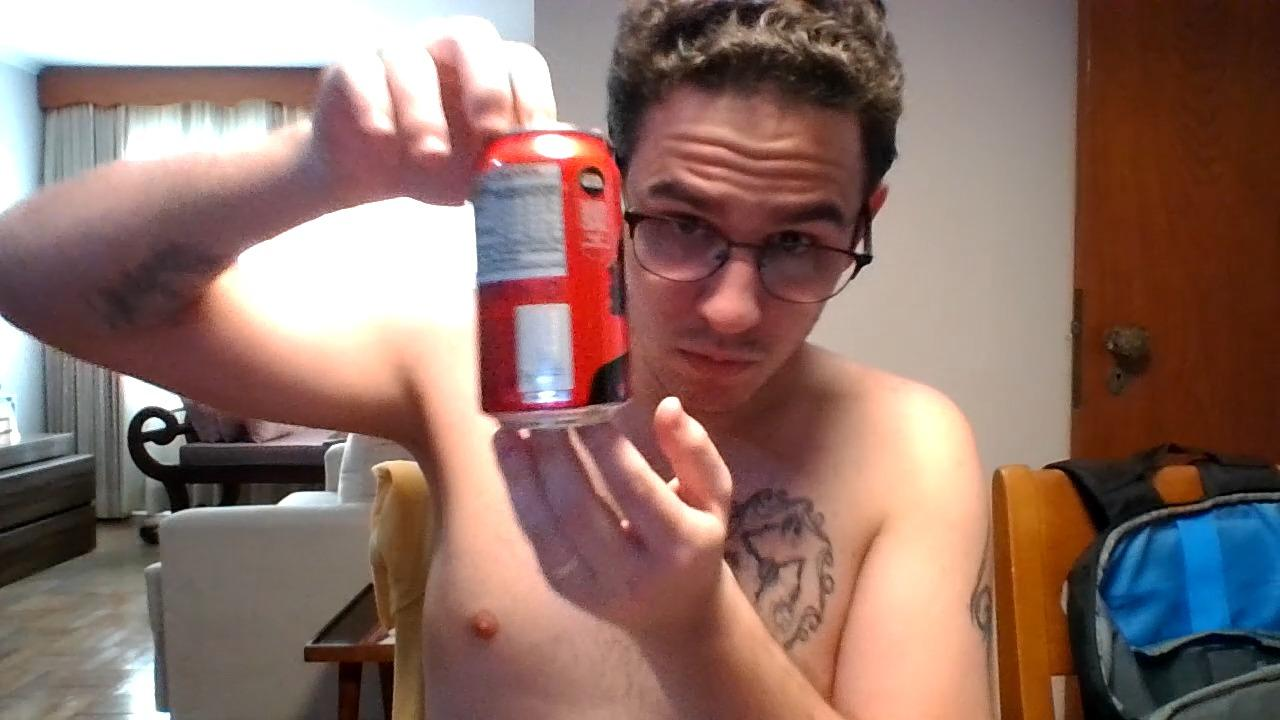coke: (470, 127, 631, 435)
